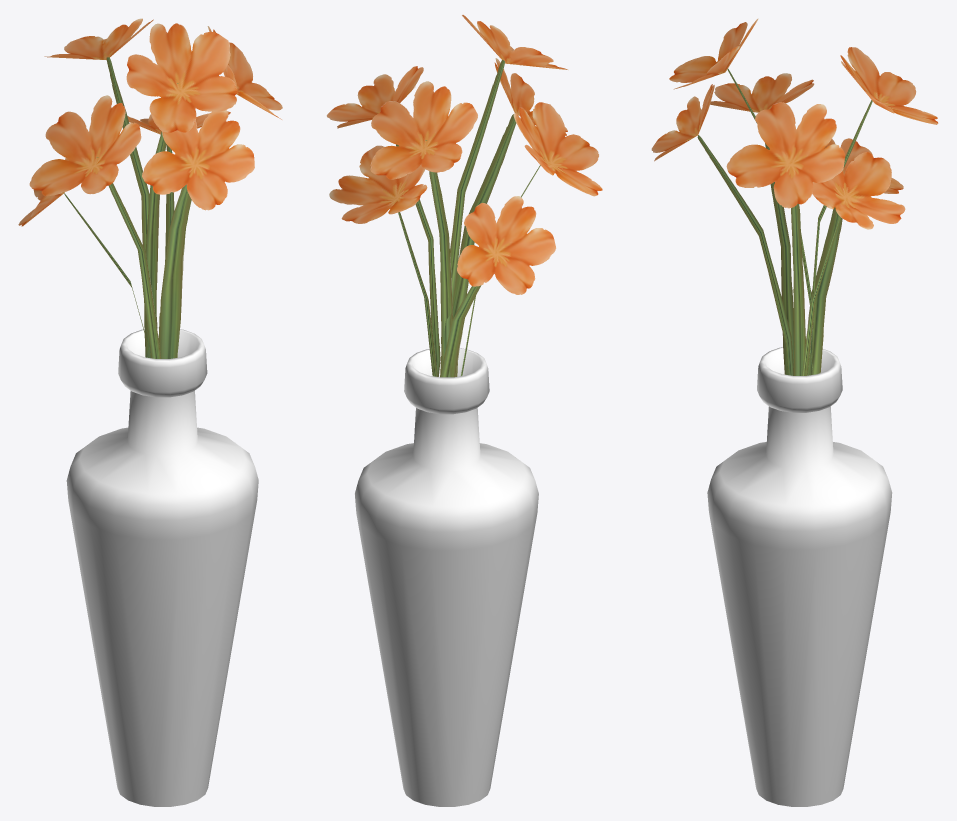
Rendered from SM_Potted_Orange_Flower_D.fbx.
3 renders of one model, left to right at view 1: azimuth 30°, elevation 25°; view 2: azimuth 150°, elevation 25°; view 3: azimuth 270°, elevation 25°, orthographic. The views are drawn at different scales.
Visible parts, largest first — view 1: SM_Potted_Orange_Flower_D_LOD0; view 2: SM_Potted_Orange_Flower_D_LOD0; view 3: SM_Potted_Orange_Flower_D_LOD0.
Boxes of the visible parts, x1,y1,x2,y2 form: SM_Potted_Orange_Flower_D_LOD0: (18,18,282,806); SM_Potted_Orange_Flower_D_LOD0: (326,15,602,806); SM_Potted_Orange_Flower_D_LOD0: (651,18,938,806).
Size of the model in its own units: 22.83 by 23.05 by 64.65.
Materials: 2 (1 with a texture image).
